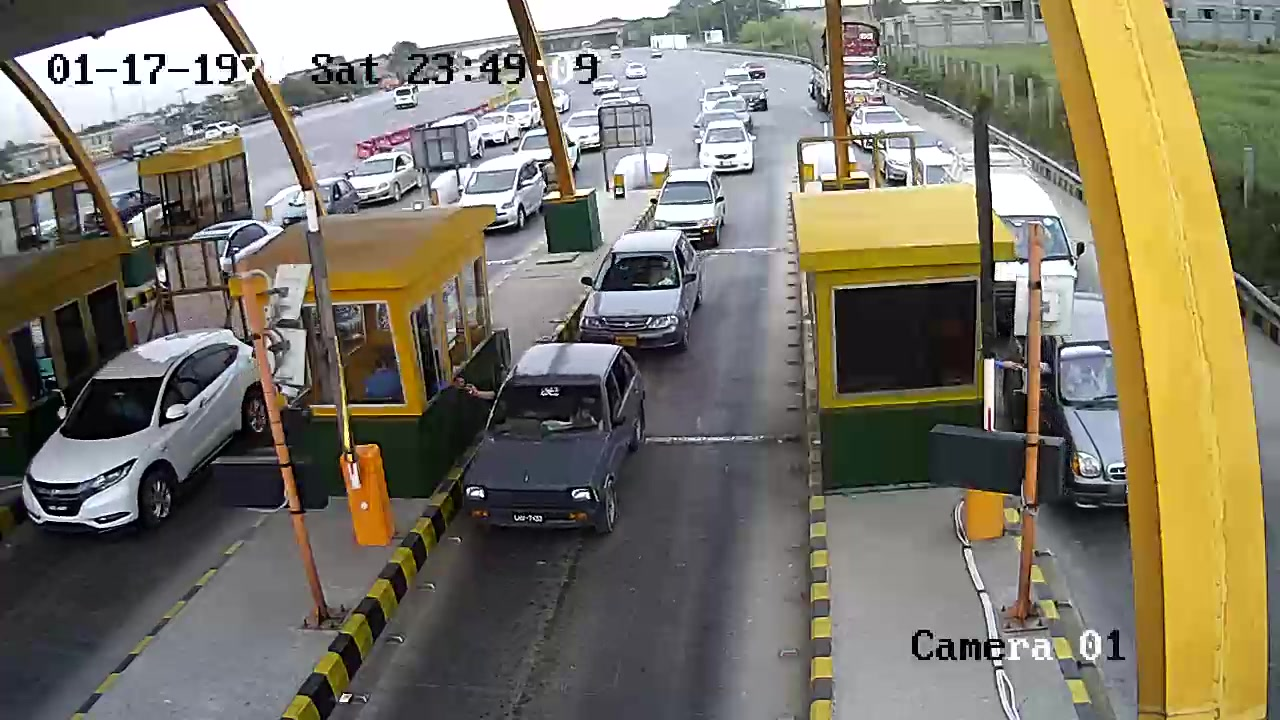F1: (451, 343, 655, 543)
